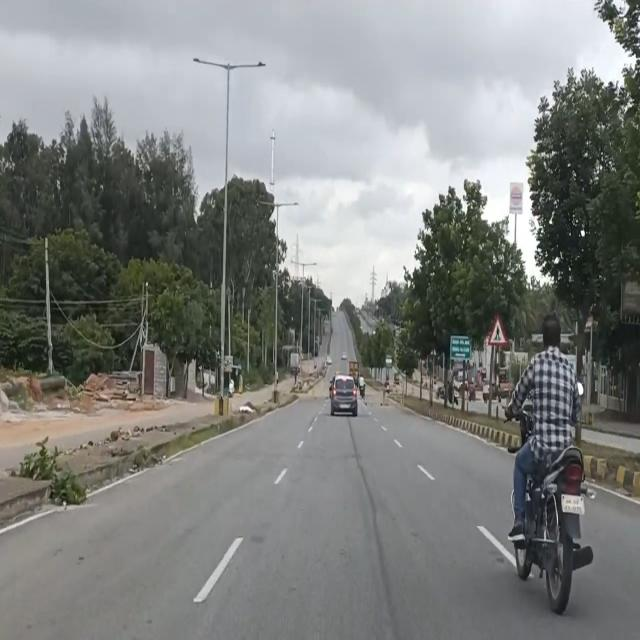bien_cam: (489, 315, 506, 350)
